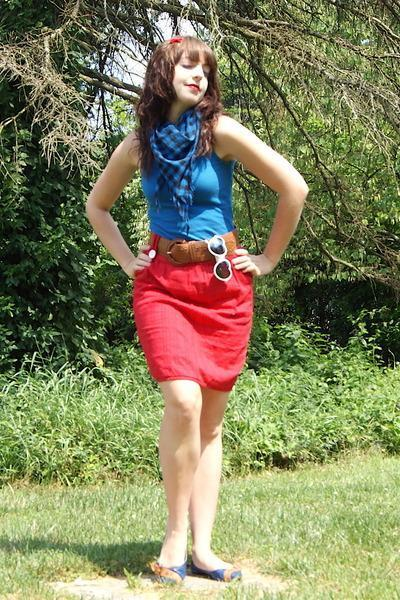shirt: (138, 117, 254, 242)
shoe: (149, 552, 232, 586)
skirt: (132, 252, 255, 389)
